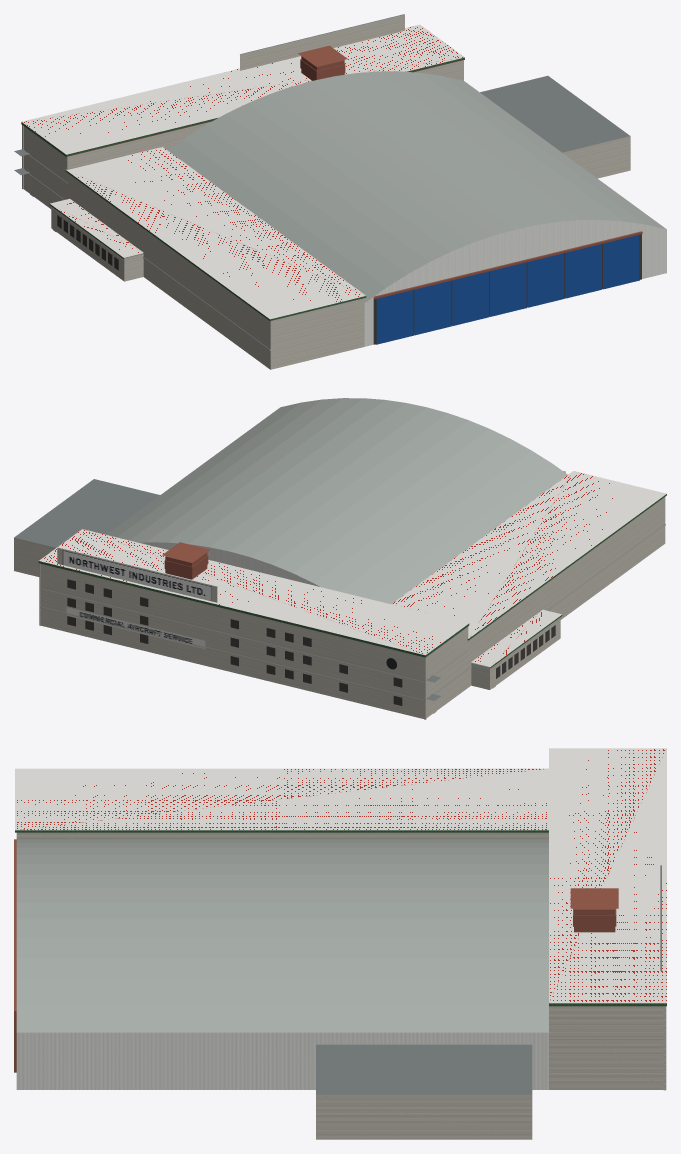
File: cyxd_hangar11_lod3.gltf
The picture shows the model from 3 angles, top to bottom: view 1: azimuth 30°, elevation 25°; view 2: azimuth 150°, elevation 25°; view 3: azimuth 270°, elevation 25°; orthographic projection. The views are drawn at different scales.
Parts seen in each view (by area): view 1: cyxd_hangar11; view 2: cyxd_hangar11; view 3: cyxd_hangar11.
Part boxes in pixels (left/top/right/bottom): cyxd_hangar11: left=14, top=14, right=666, bottom=369; cyxd_hangar11: left=14, top=398, right=666, bottom=719; cyxd_hangar11: left=14, top=748, right=666, bottom=1139.
Size of the model in its own units: 90 by 14.9 by 78.52.
